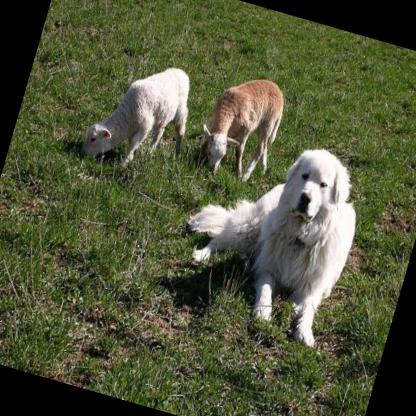Great_Pyrenees: (161, 118, 375, 354)
